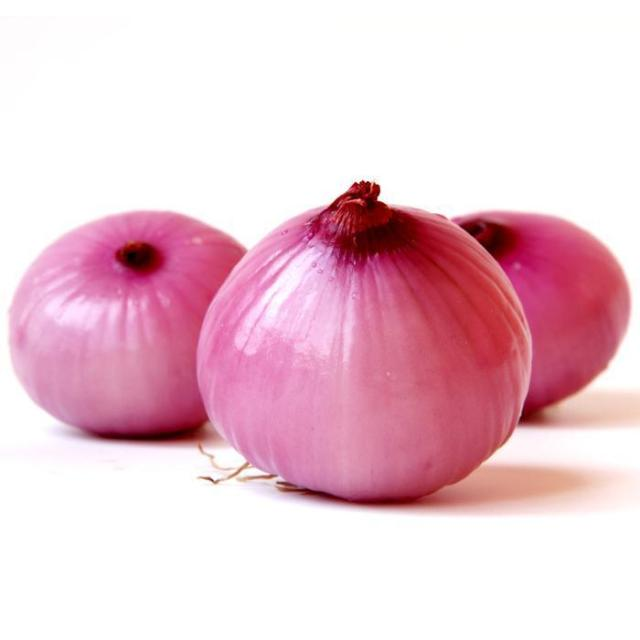Onion: (198, 178, 538, 506), (9, 210, 252, 438), (451, 210, 631, 414)
